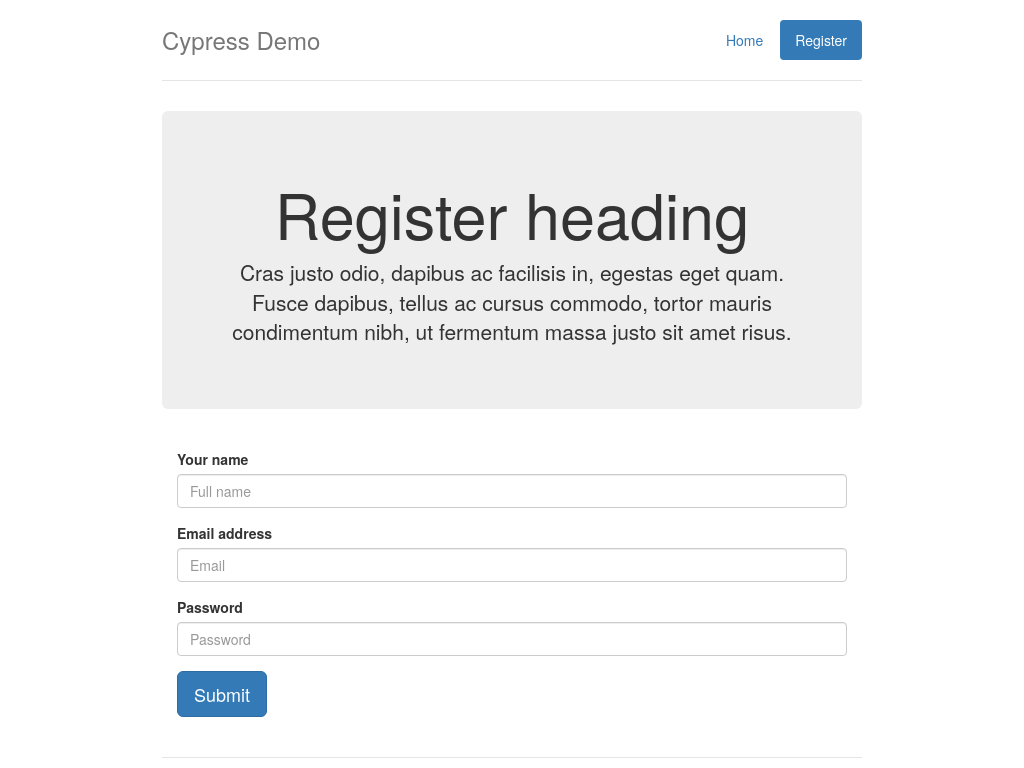
Scenario: Register Page › Check register form › should display the success message after a valid form submit
Type "Aleks" into the field with id "inputName". click: (512,492)
box: [177,475,847,509]
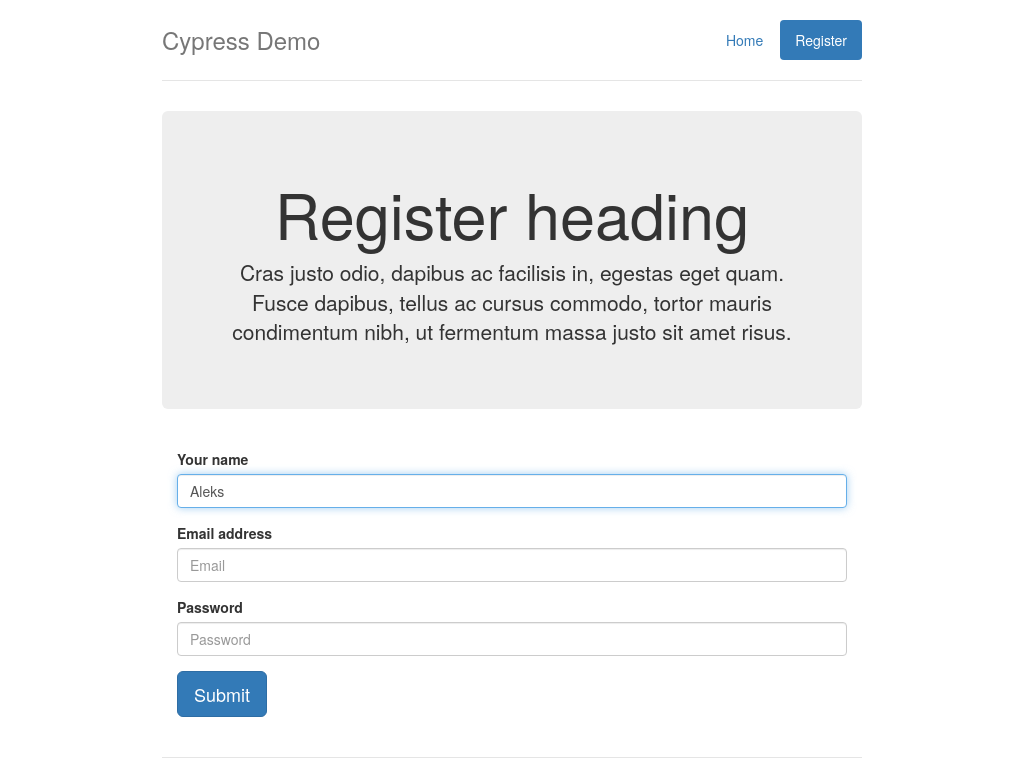
Type "email@example.com" into the field with id "inputEmail". click: (512,566)
box: [177,549,847,583]
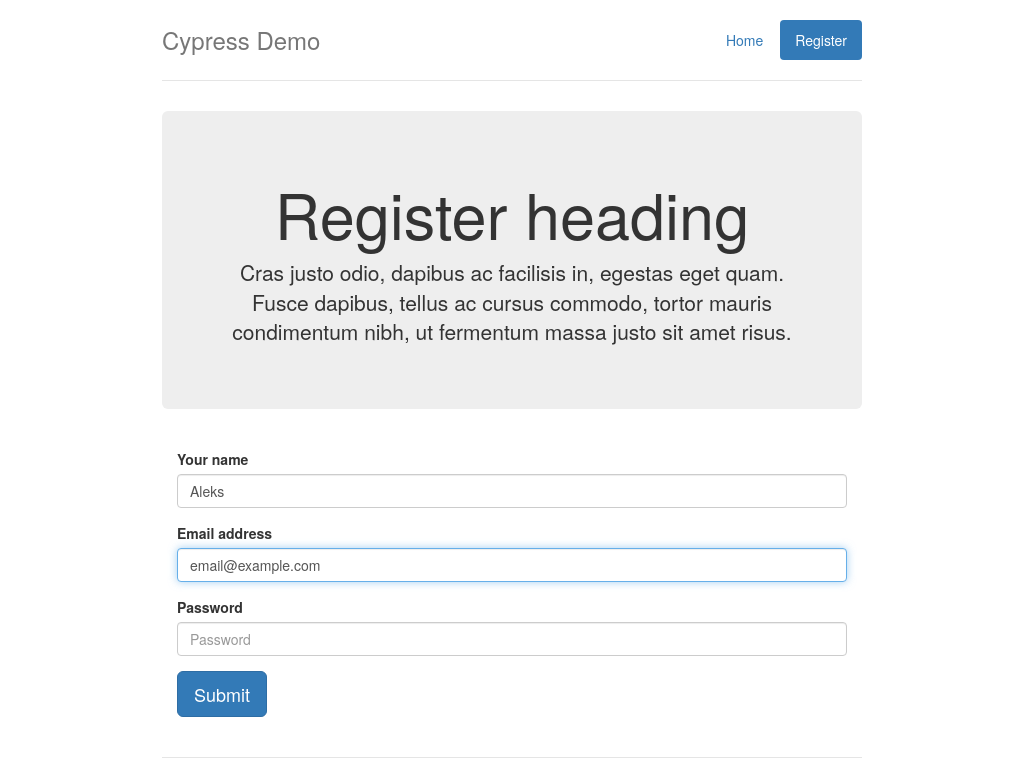
Type "secret" into the password field with id "inputPassword". click: (512,640)
box: [177,623,847,657]
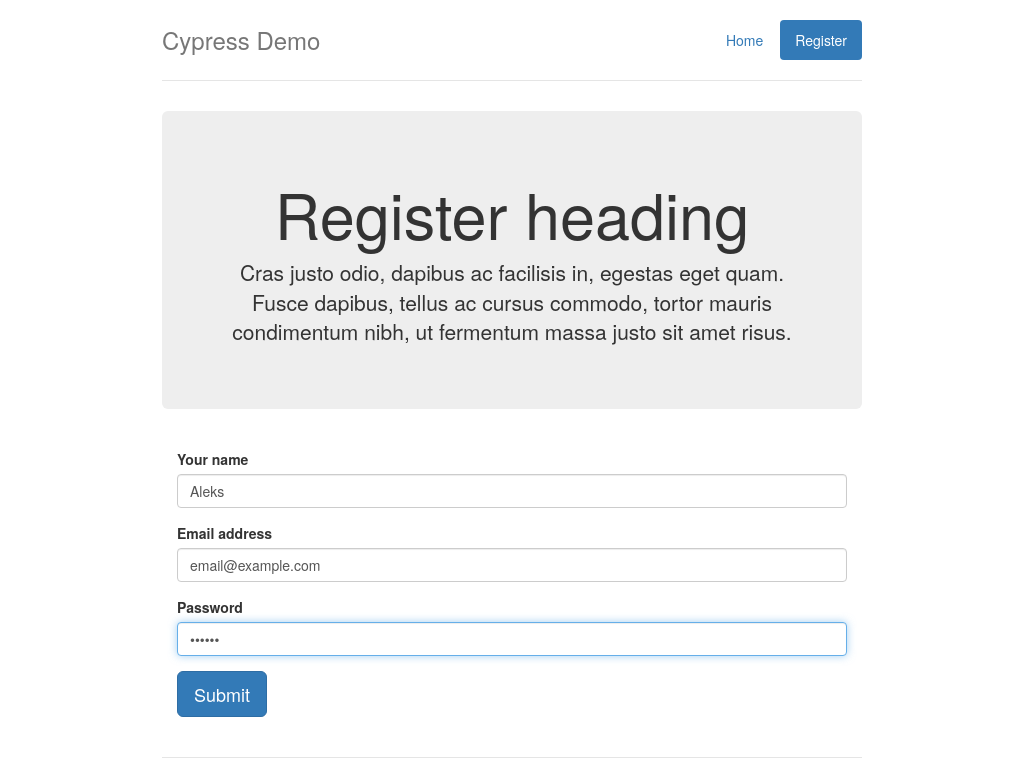
Click the button with test id "btn-submit". click: (222,695)
box: [177,672,267,718]
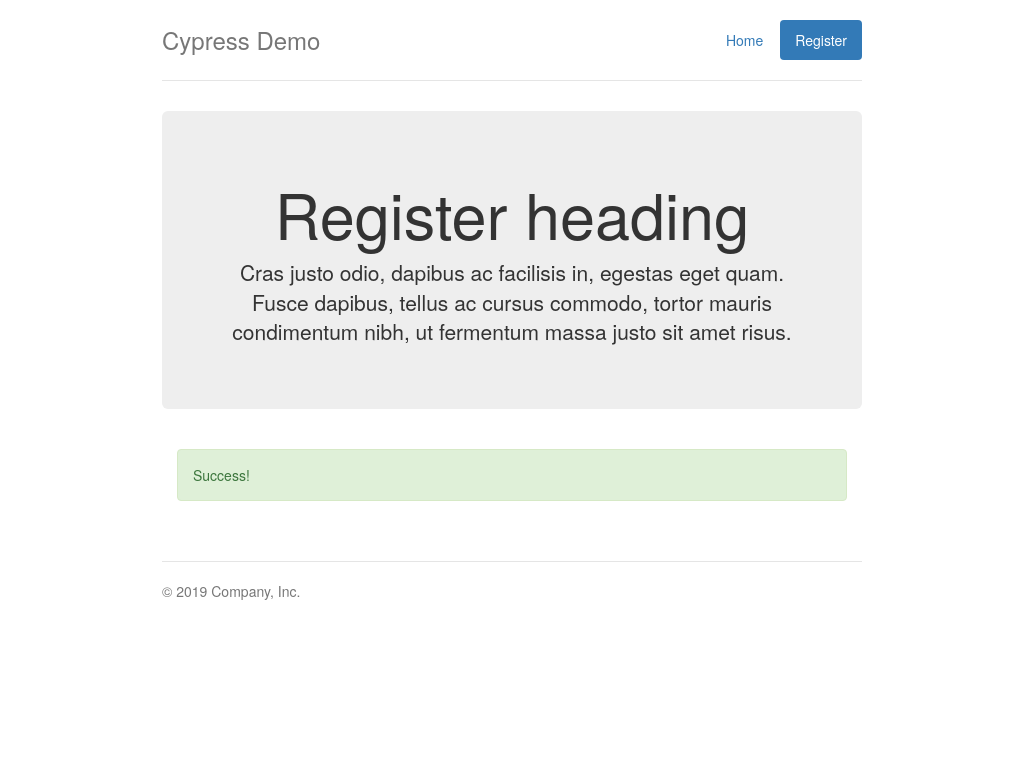
Expected: the text "Success!" is shown, [177,450,847,502]
Expected: the text with class "alert-success" shows "Success", [193,465,250,485]
